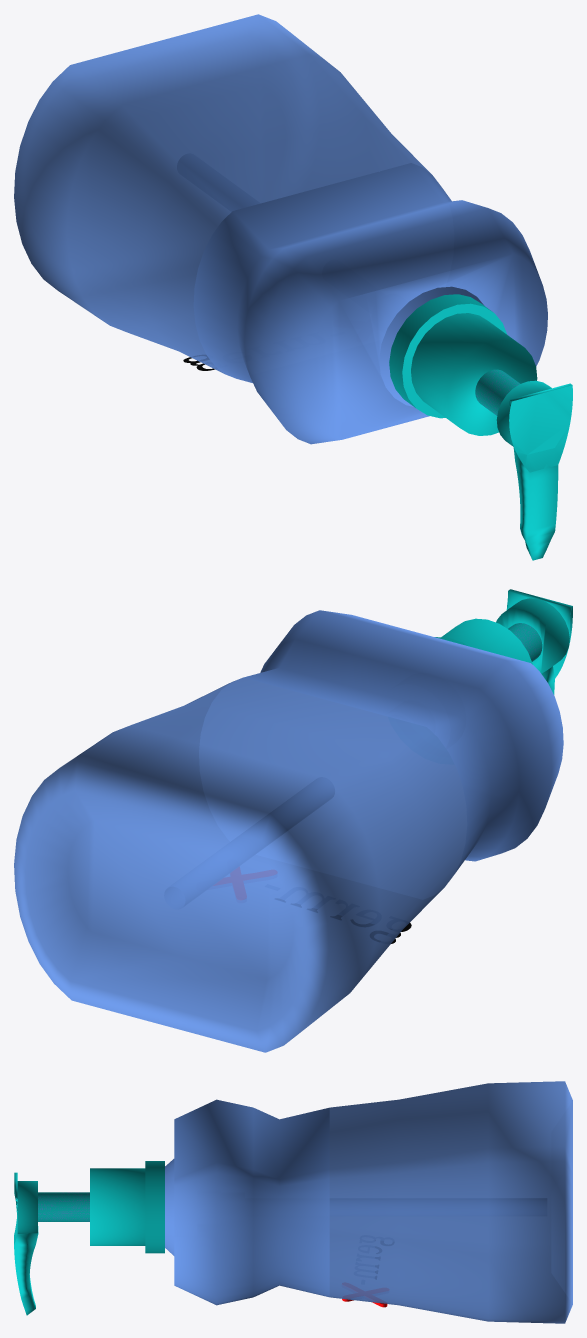
File: model_align.obj
3 renders of one model, top to bottom at view 1: azimuth 30°, elevation 25°; view 2: azimuth 150°, elevation 25°; view 3: azimuth 270°, elevation 25°, orthographic. The views are drawn at different scales.
Visible parts, largest first — view 1: mesh20_mesh20-geometry, mesh21_mesh21-geometry, mesh1_mesh1-geometry; view 2: mesh20_mesh20-geometry, mesh21_mesh21-geometry; view 3: mesh20_mesh20-geometry, mesh21_mesh21-geometry, mesh18_mesh18-geometry.
Part boxes in pixels (<box>): mesh20_mesh20-geometry: <box>14,14,547,444</box>; mesh21_mesh21-geometry: <box>177,154,572,560</box>; mesh1_mesh1-geometry: <box>509,385,572,472</box>; mesh20_mesh20-geometry: <box>14,610,563,1052</box>; mesh21_mesh21-geometry: <box>172,589,572,904</box>; mesh20_mesh20-geometry: <box>90,1081,572,1323</box>; mesh21_mesh21-geometry: <box>14,1172,546,1315</box>; mesh18_mesh18-geometry: <box>342,1283,388,1307</box>.
Size of the model in its own units: 0.1089 by 0.0894 by 0.2299.
